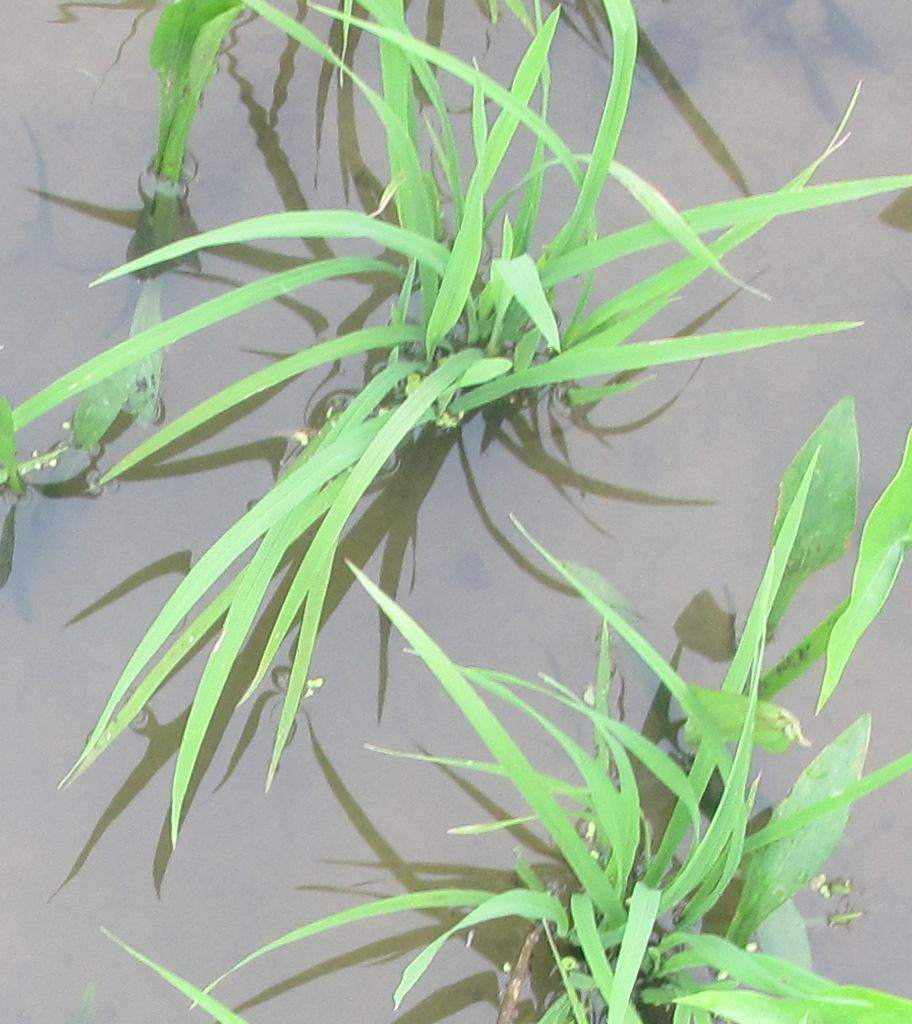Weed: (774, 394, 907, 666), (742, 716, 877, 903)
